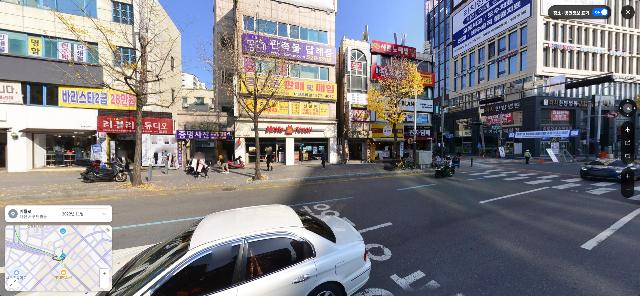ginkgo: (19, 0, 195, 188), (194, 0, 300, 180), (365, 51, 430, 168)
